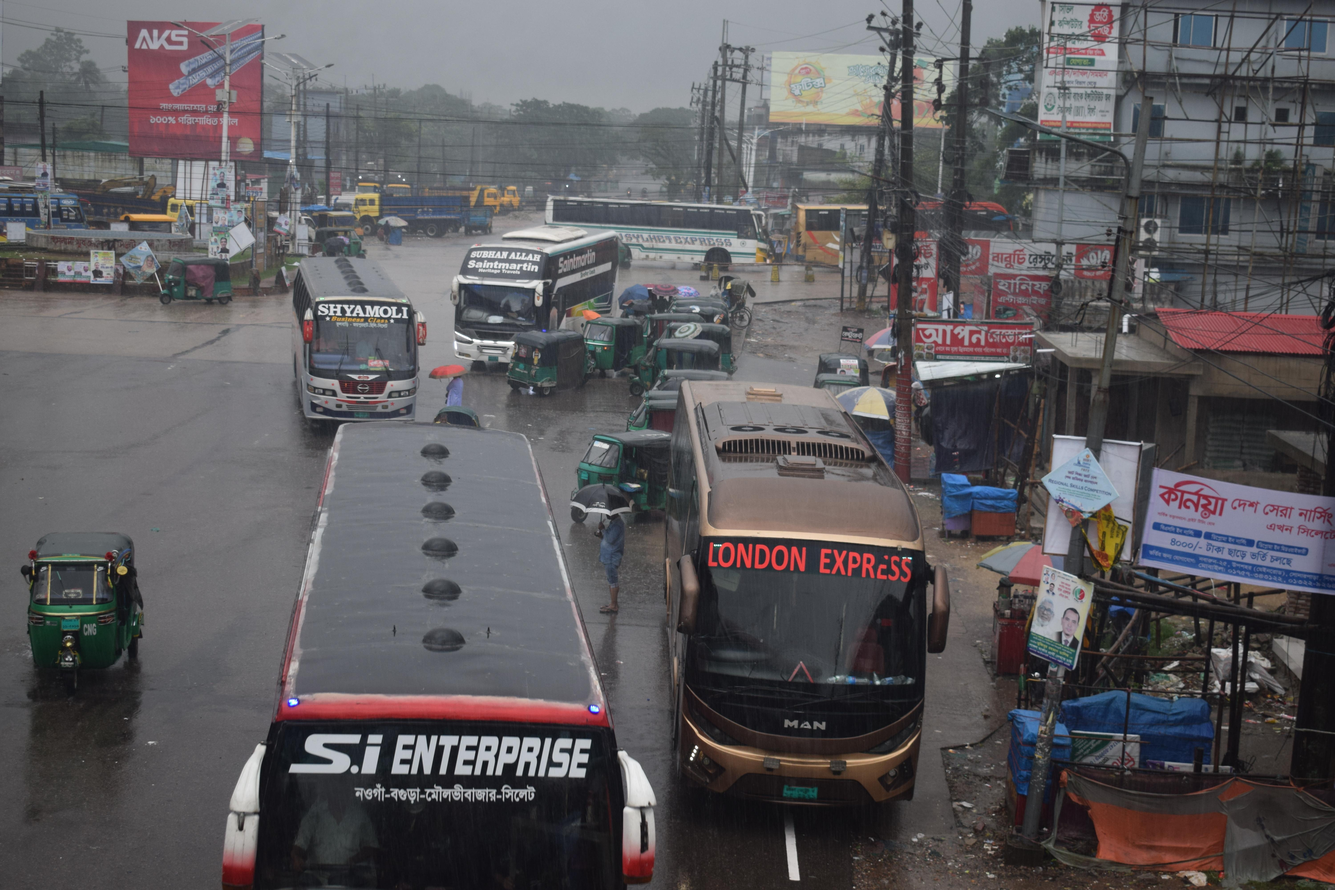Bus: (207, 400, 688, 890), (635, 341, 949, 831), (246, 239, 445, 444), (523, 172, 790, 300), (428, 216, 633, 375), (783, 186, 1036, 279)
Truck: (335, 172, 460, 232), (104, 192, 204, 256)
